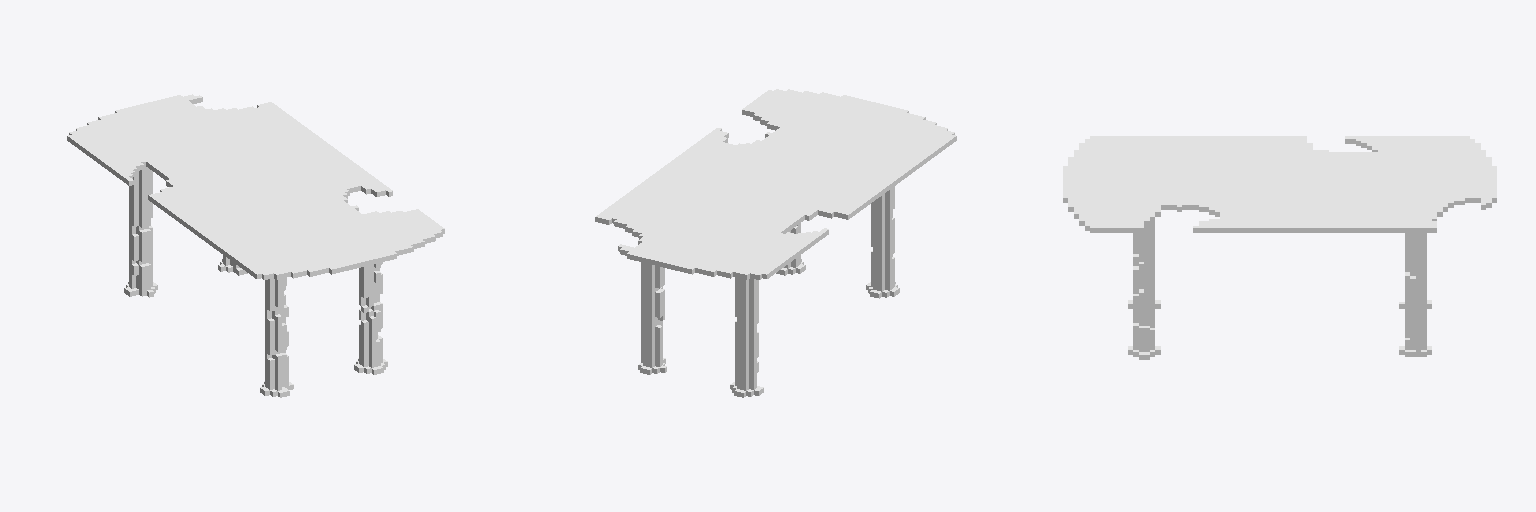
The model's file is Mesa_2_Detalle_Rota_Union.obj.
3 views of the same model, side by side, from view 1: azimuth 30°, elevation 25°; view 2: azimuth 150°, elevation 25°; view 3: azimuth 270°, elevation 25° (orthographic).
Parts seen in each view (by area): view 1: object 1; view 2: object 1; view 3: object 1.
Part boxes in pixels (bbox=[...]): object 1: bbox=[67, 94, 444, 397]; object 1: bbox=[595, 89, 956, 397]; object 1: bbox=[1063, 136, 1496, 359].
Bounding box in the file's own units: 4 × 3 × 8.